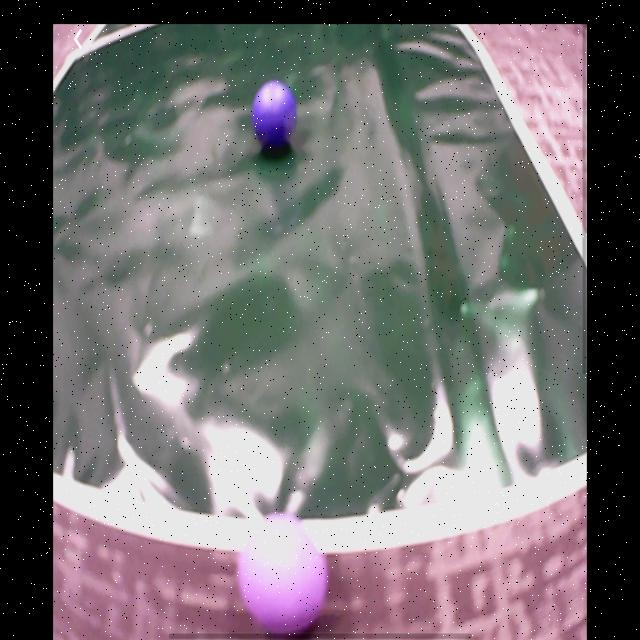ball: (240, 516, 325, 632), (252, 81, 295, 146)
